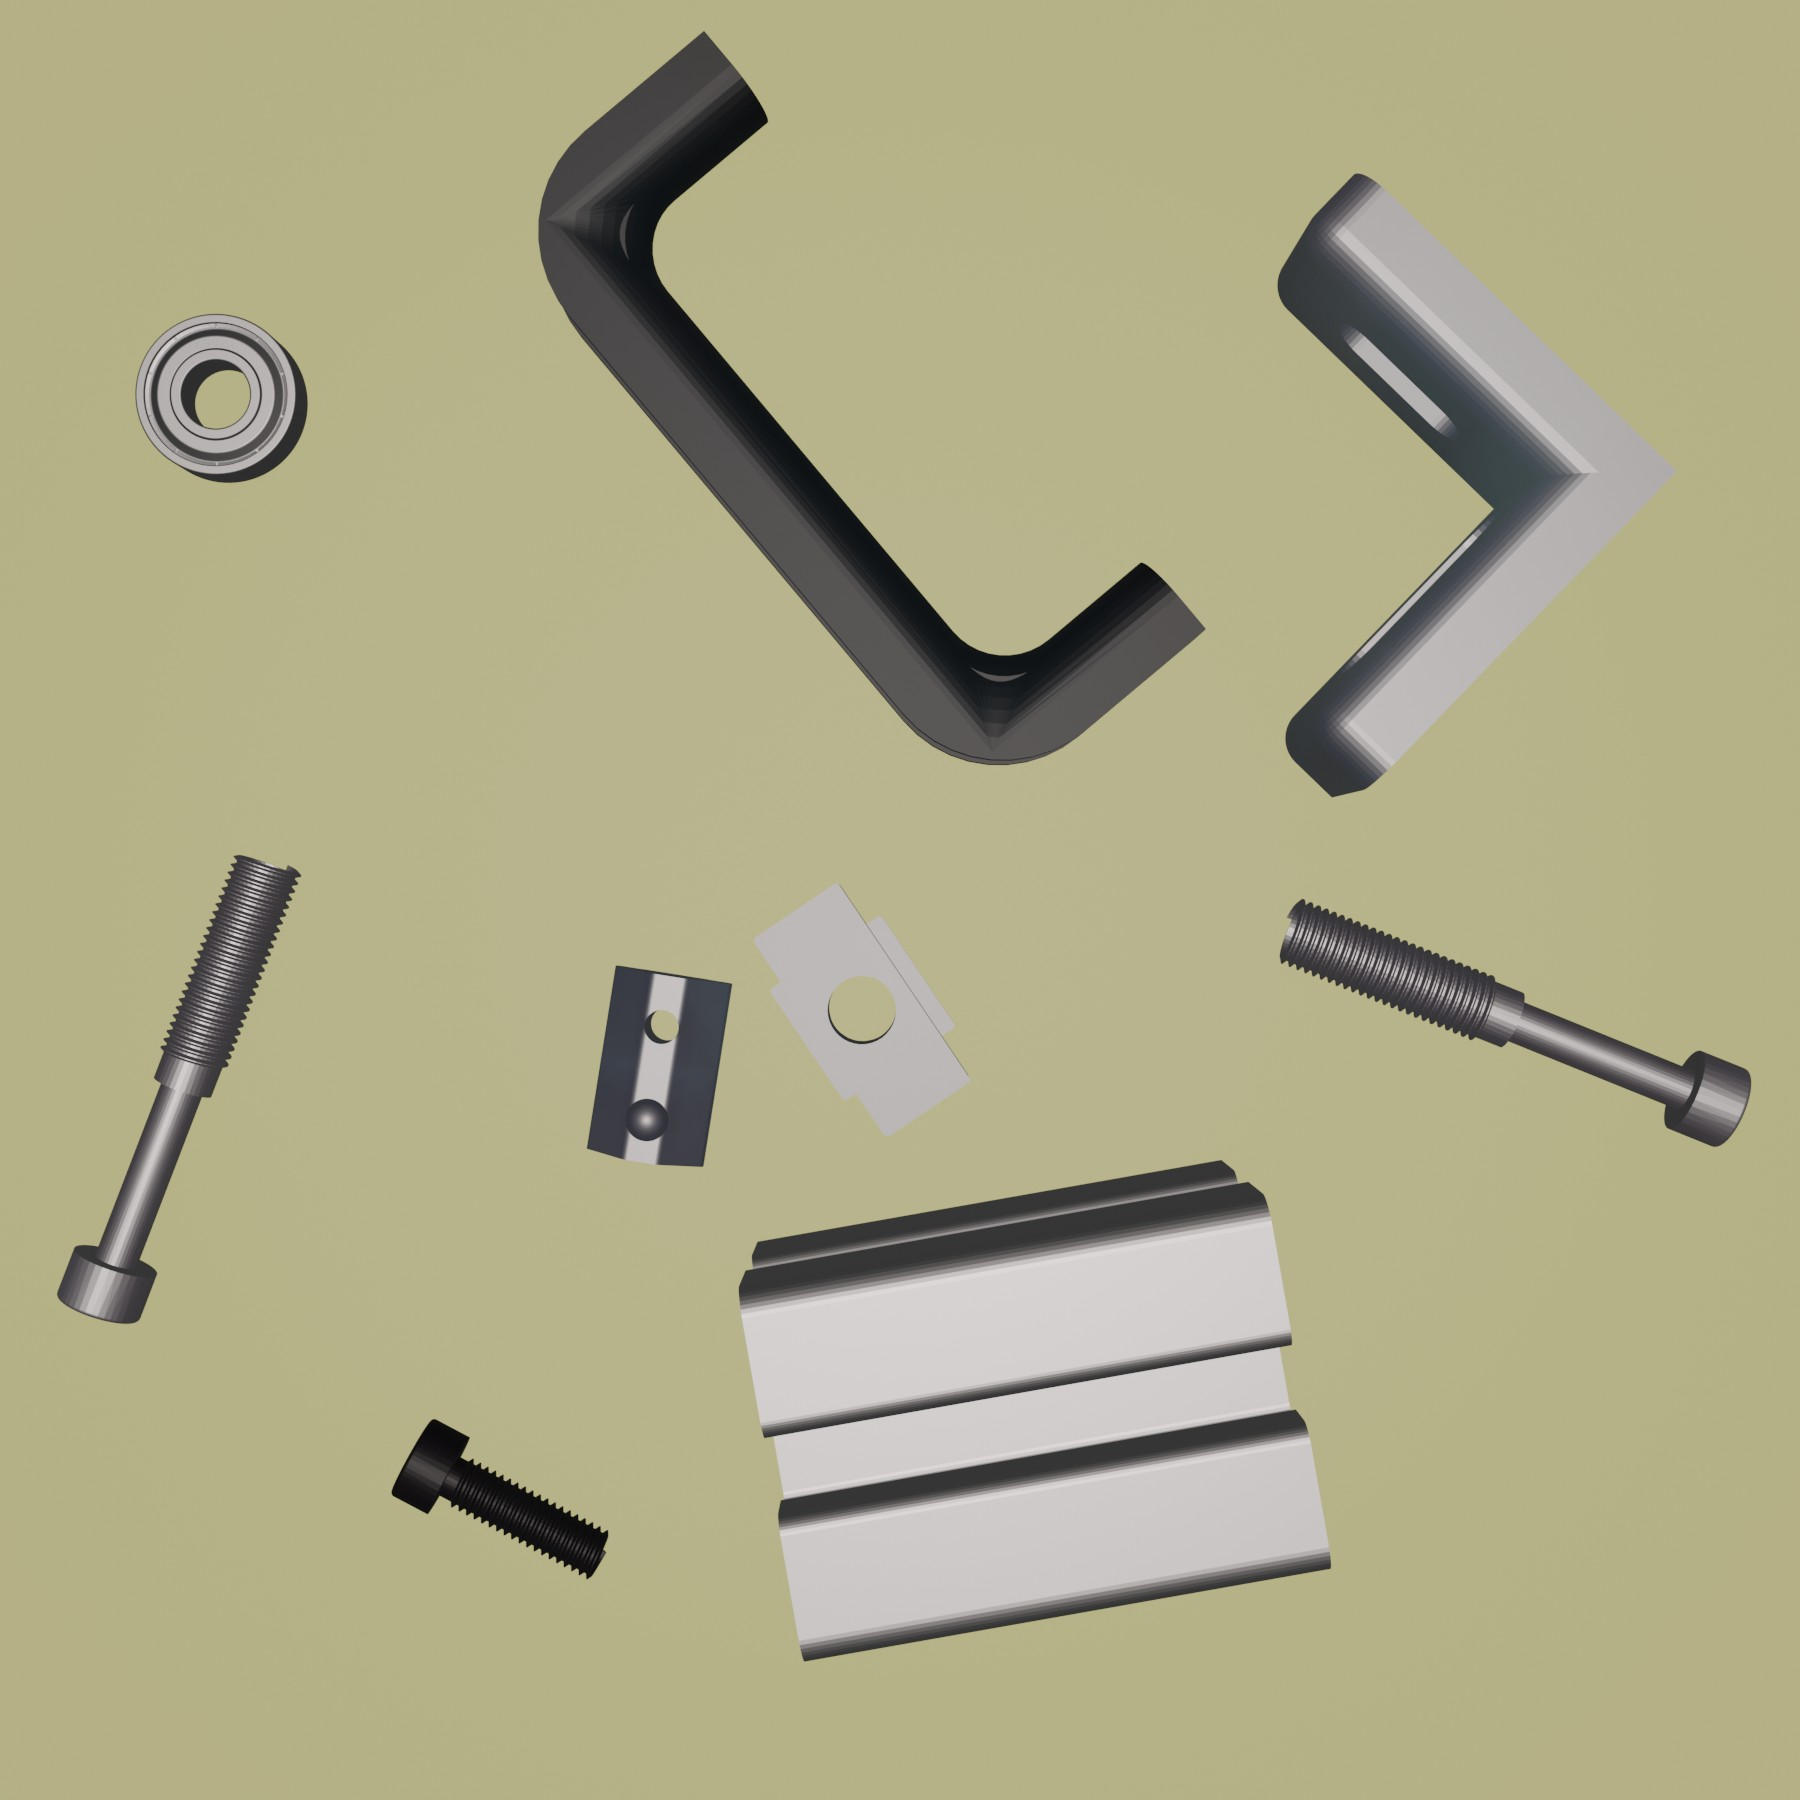Aluminium Extension: (738, 1155, 1335, 1665)
Ball Bearing: (132, 308, 308, 486)
Multiwinkel: (1276, 170, 1680, 799)
Pull Handle: (536, 26, 1208, 768)
Shoulder Socket Head Cap Screw: (1274, 895, 1752, 1149), (56, 847, 305, 1325)
Socket Head Cap Screw: (387, 1419, 613, 1581)
T Nut Square: (748, 877, 977, 1146)
T Spring Nut: (582, 961, 738, 1174)
